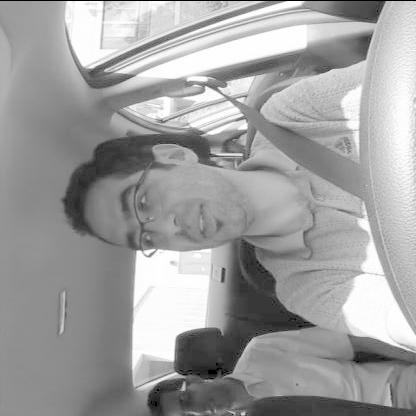seatbelt: (49, 63, 361, 264)
